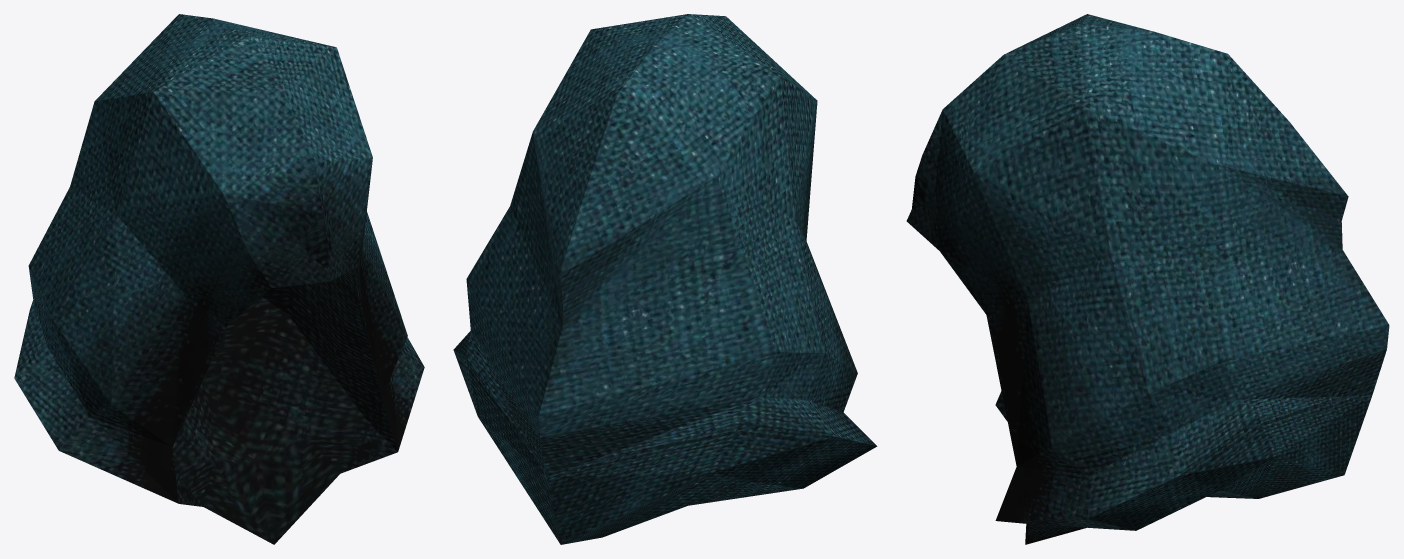
The model's file is HUM_HELM_2NIE.glb.
3 renders of one model, left to right at view 1: azimuth 30°, elevation 25°; view 2: azimuth 150°, elevation 25°; view 3: azimuth 270°, elevation 25°, orthographic. The views are drawn at different scales.
Visible parts, largest first — view 1: HUM_HELM_2NIE; view 2: HUM_HELM_2NIE; view 3: HUM_HELM_2NIE.
Boxes of the visible parts, x1,y1,x2,y2 form: HUM_HELM_2NIE: [14, 14, 424, 544]; HUM_HELM_2NIE: [453, 14, 877, 544]; HUM_HELM_2NIE: [906, 14, 1389, 544].
Size of the model in its own units: 0.3241 by 0.4106 by 0.345.
1 material, 1 textured.
